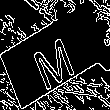M_NW: (30, 22, 80, 88)
